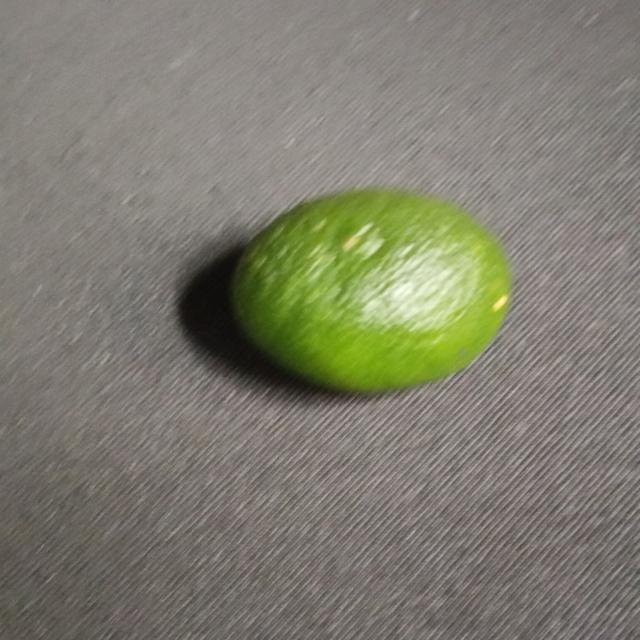heathy: (221, 188, 516, 399)
